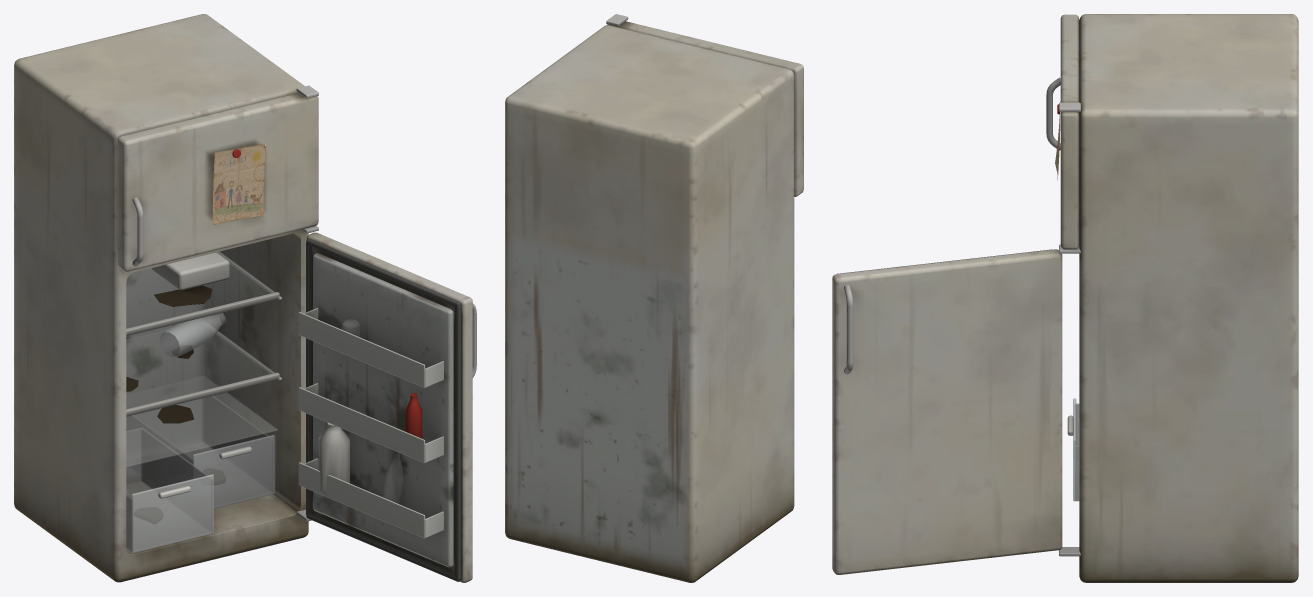
File: fridge_open.glb
3 renders of one model, left to right at view 1: azimuth 30°, elevation 25°; view 2: azimuth 150°, elevation 25°; view 3: azimuth 270°, elevation 25°, orthographic. The views are drawn at different scales.
Parts seen in each view (by area): view 1: fridge_open; view 2: fridge_open; view 3: fridge_open.
Boxes of the visible parts, bbox=[...] form: fridge_open: bbox=[14, 14, 476, 582]; fridge_open: bbox=[505, 14, 803, 582]; fridge_open: bbox=[832, 14, 1298, 582].
Bounding box in the file's own units: 0.9785 × 1.69 × 1.5.
Materials: 13 (2 with a texture image).
